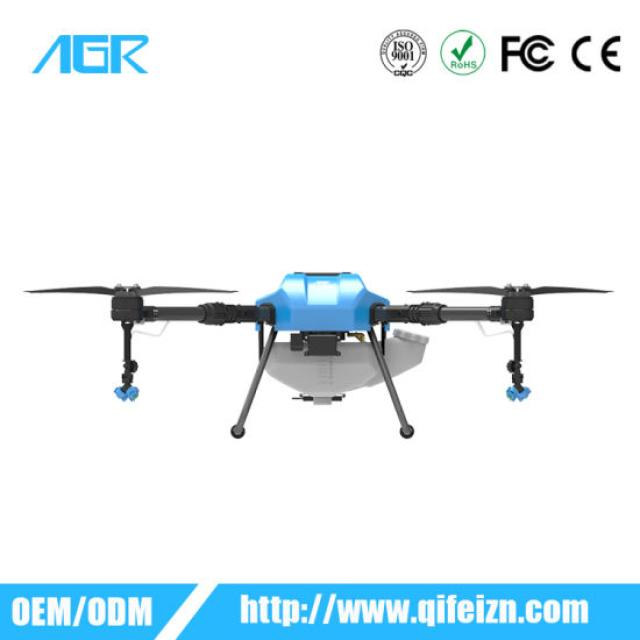drone: (30, 237, 625, 465)
